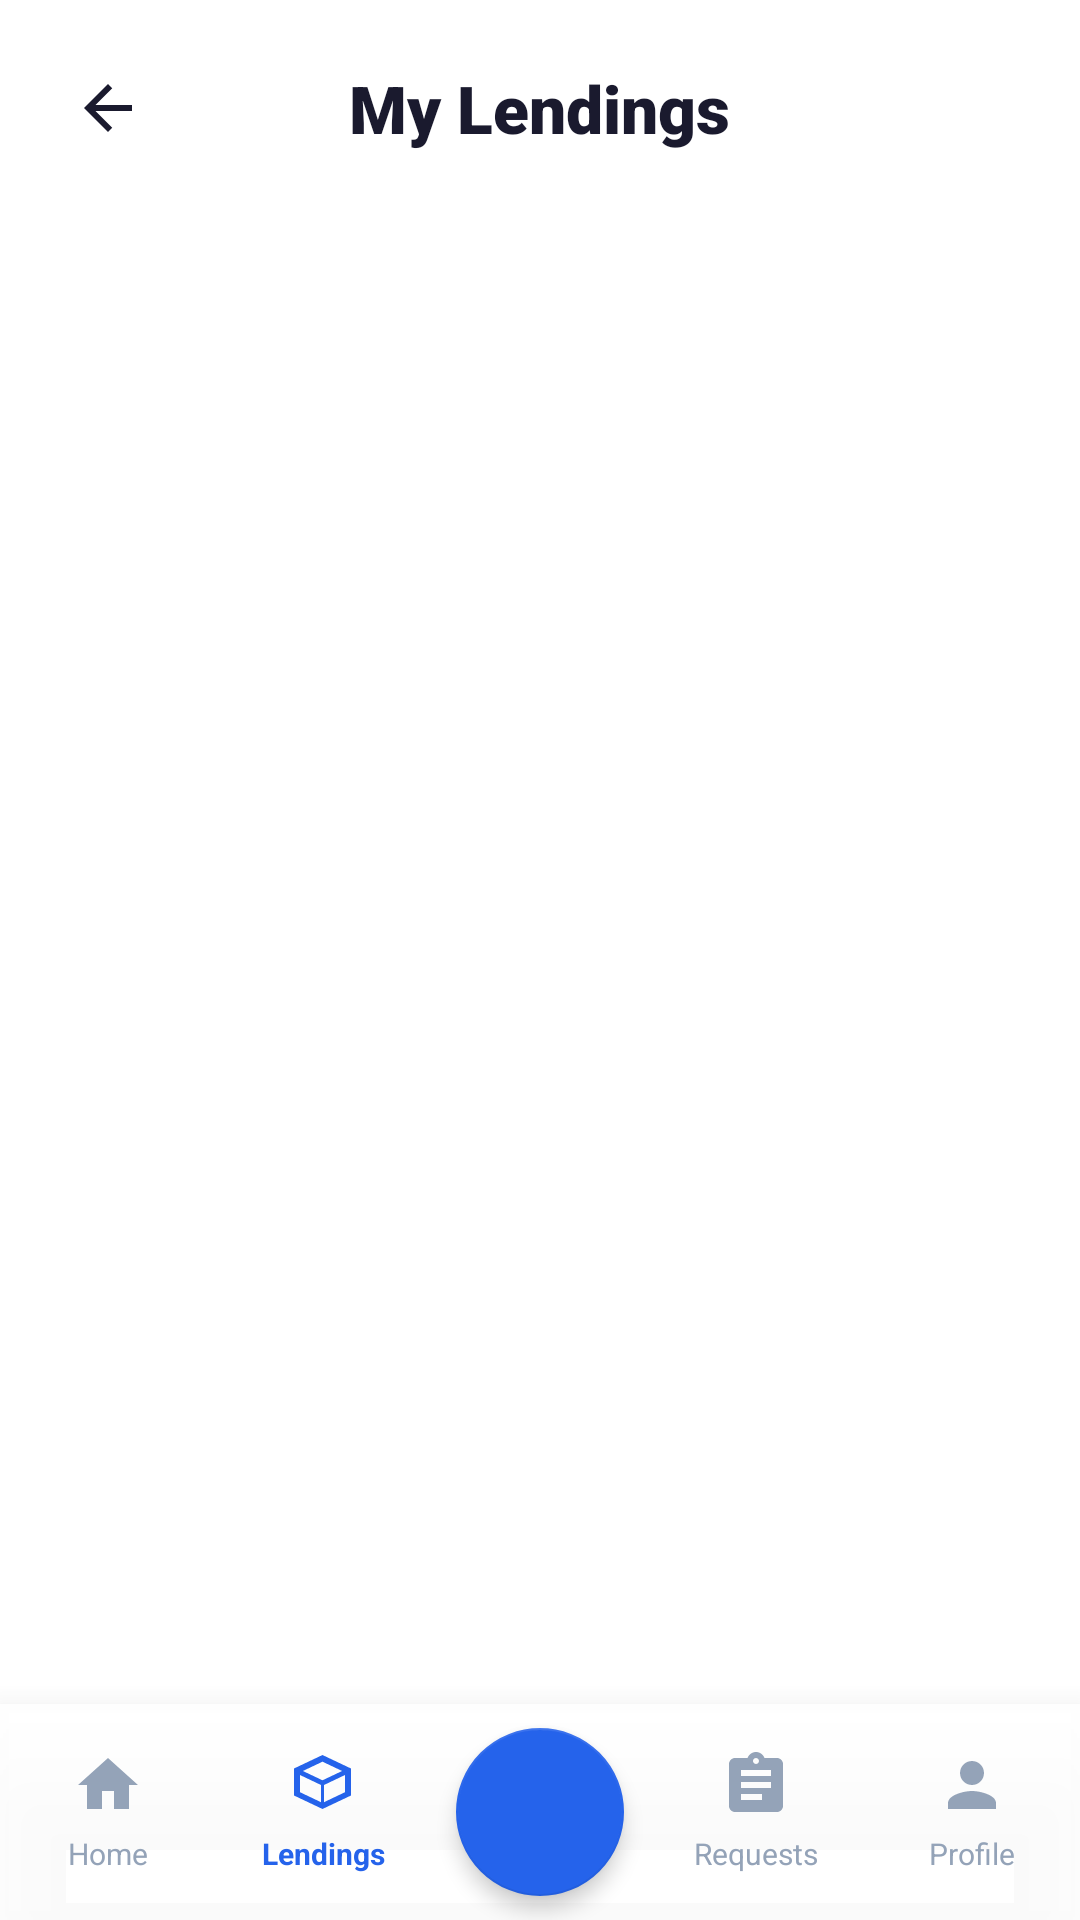

Named icons in this screenshot (1080*1920) and their centers, point (x, y):
back: point (108, 108)
person: point (972, 1785)
